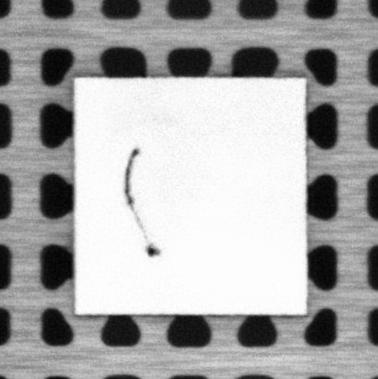DIE_INK: (121, 148, 161, 256)
